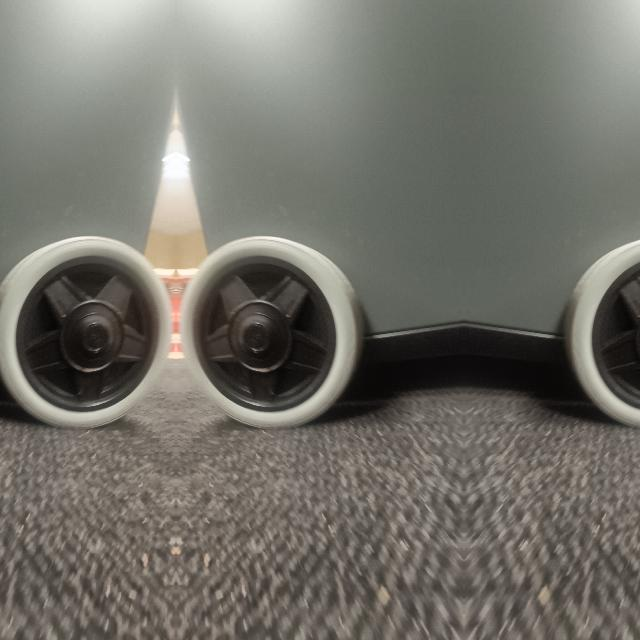obstacle: (186, 136, 464, 434), (463, 136, 640, 434), (0, 136, 163, 434)
